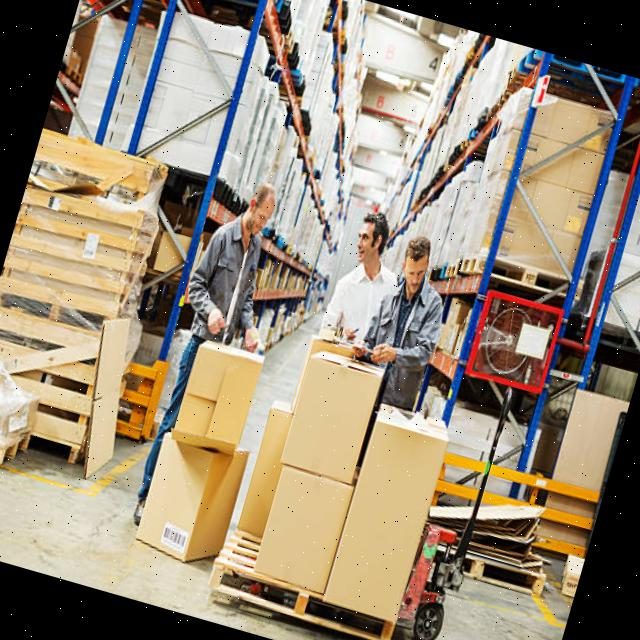Wooden-Pallets: (203, 560, 398, 640)
